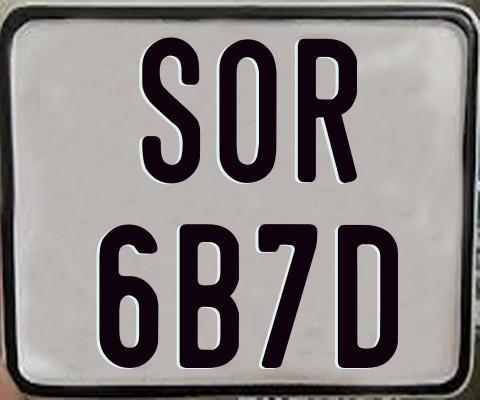0: (216, 37, 274, 187)
6: (98, 223, 163, 368)
7: (255, 222, 318, 367)
B: (178, 222, 242, 367)
D: (336, 223, 396, 366)
R: (295, 38, 354, 187)
S: (141, 35, 199, 183)
